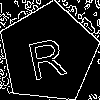R: (23, 28, 68, 81)
